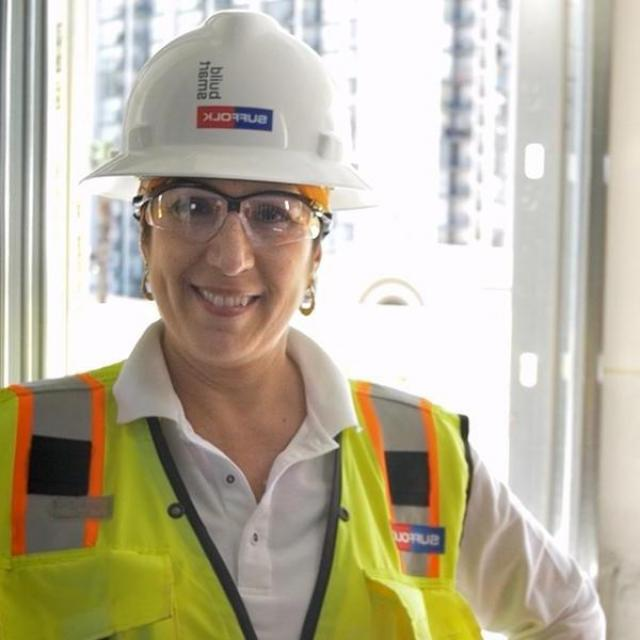Reflective-Jacket: (0, 355, 495, 640)
Safety-Helmet: (76, 6, 385, 206)
